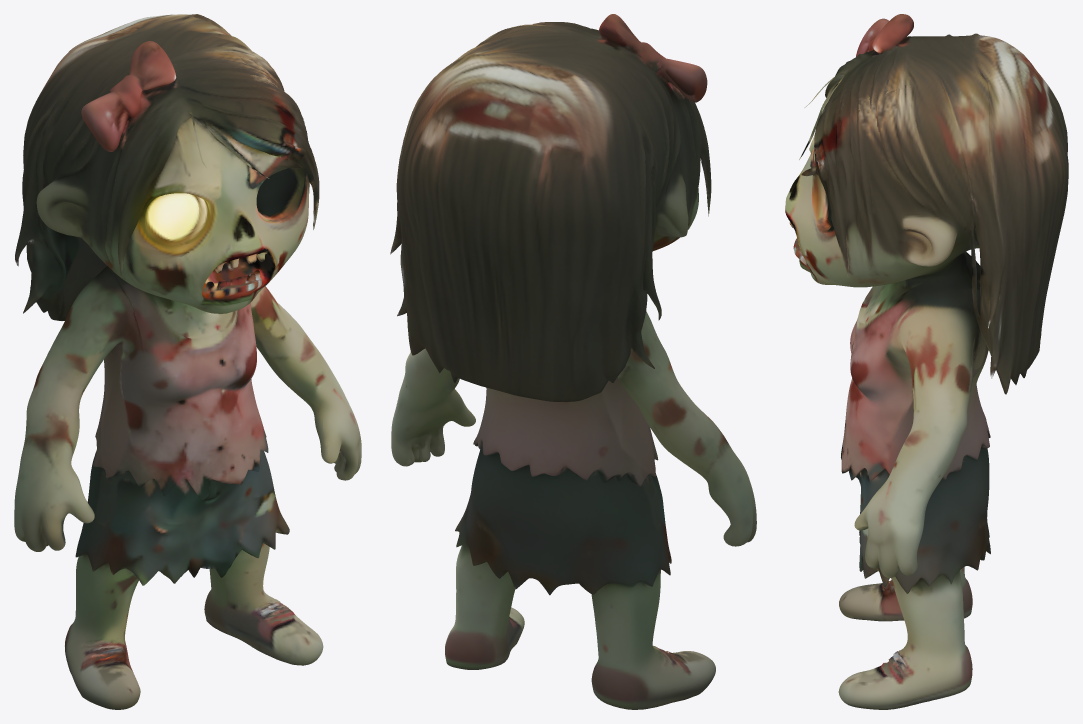
File: base_basic_shaded.fbx
3 renders of one model, left to right at view 1: azimuth 30°, elevation 25°; view 2: azimuth 150°, elevation 25°; view 3: azimuth 270°, elevation 25°, orthographic. The views are drawn at different scales.
Parts seen in each view (by area): view 1: model; view 2: model; view 3: model.
Part boxes in pixels (<box>): model: <box>14,14,361,709</box>; model: <box>390,14,756,709</box>; model: <box>785,14,1068,709</box>.
Bounding box in the file's own units: 107 × 190 × 78.11.
